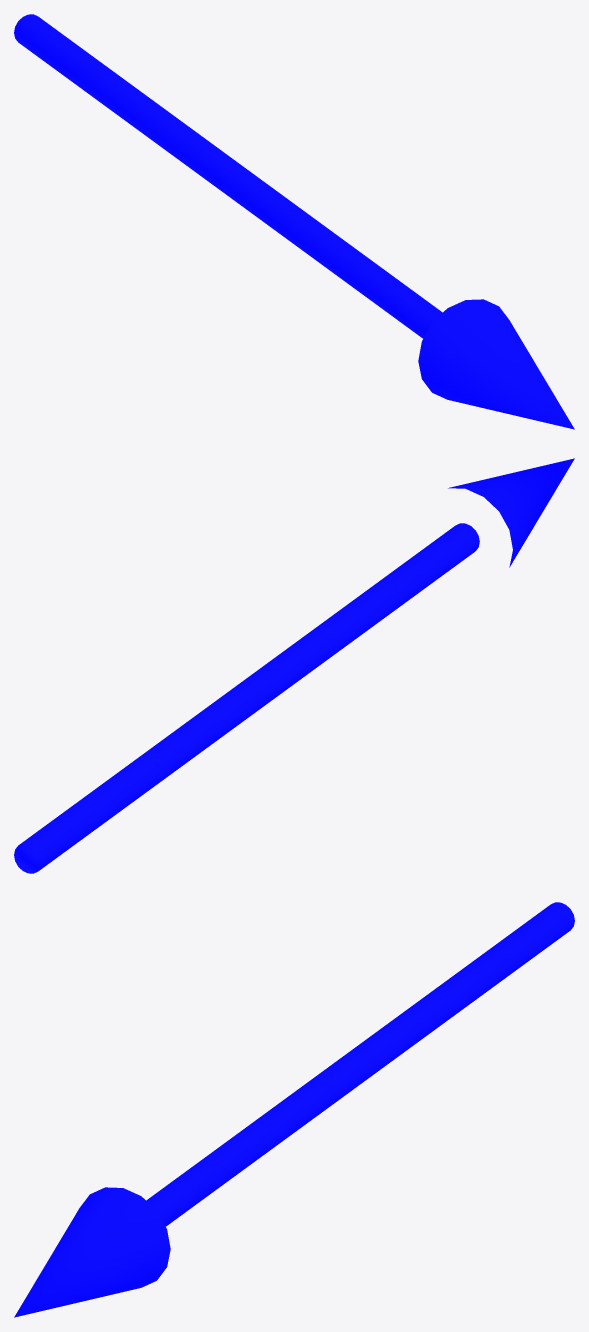
The model's file is arrowZ.gltf.
3 renders of one model, top to bottom at view 1: azimuth 30°, elevation 25°; view 2: azimuth 150°, elevation 25°; view 3: azimuth 330°, elevation 25°, orthographic.
Parts seen in each view (by area): view 1: axis_Z; view 2: axis_Z; view 3: axis_Z.
Boxes of the visible parts, x1=… form: axis_Z: x1=14, y1=14, x2=574, y2=429; axis_Z: x1=14, y1=458, x2=574, y2=873; axis_Z: x1=14, y1=902, x2=574, y2=1317.
Bounding box in the file's own units: 0.1 × 0.1 × 1.
